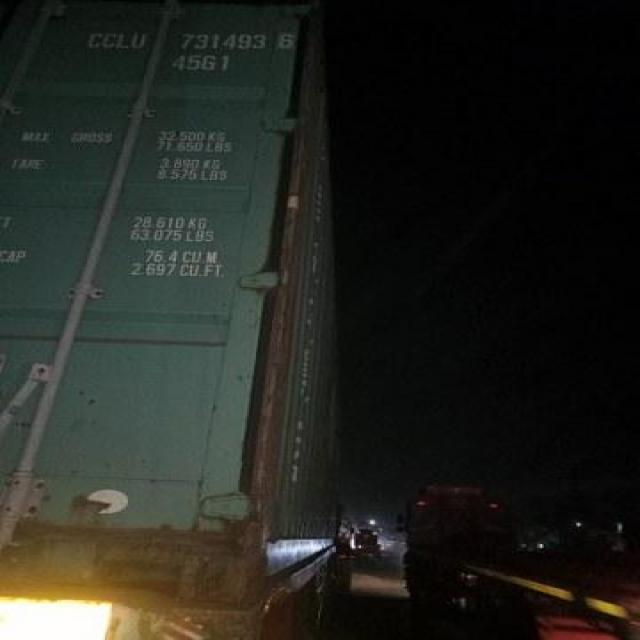container_number_h: (68, 16, 315, 93)
